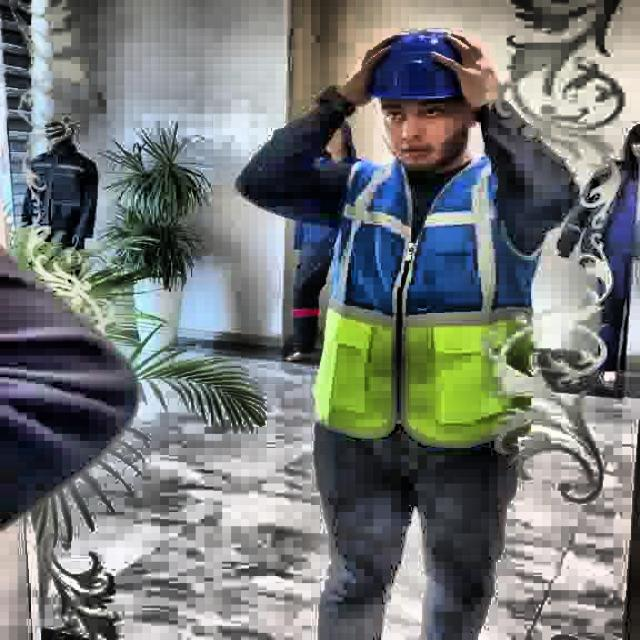safety_helmet: (366, 32, 471, 100)
safety_jacket: (312, 154, 540, 450)
